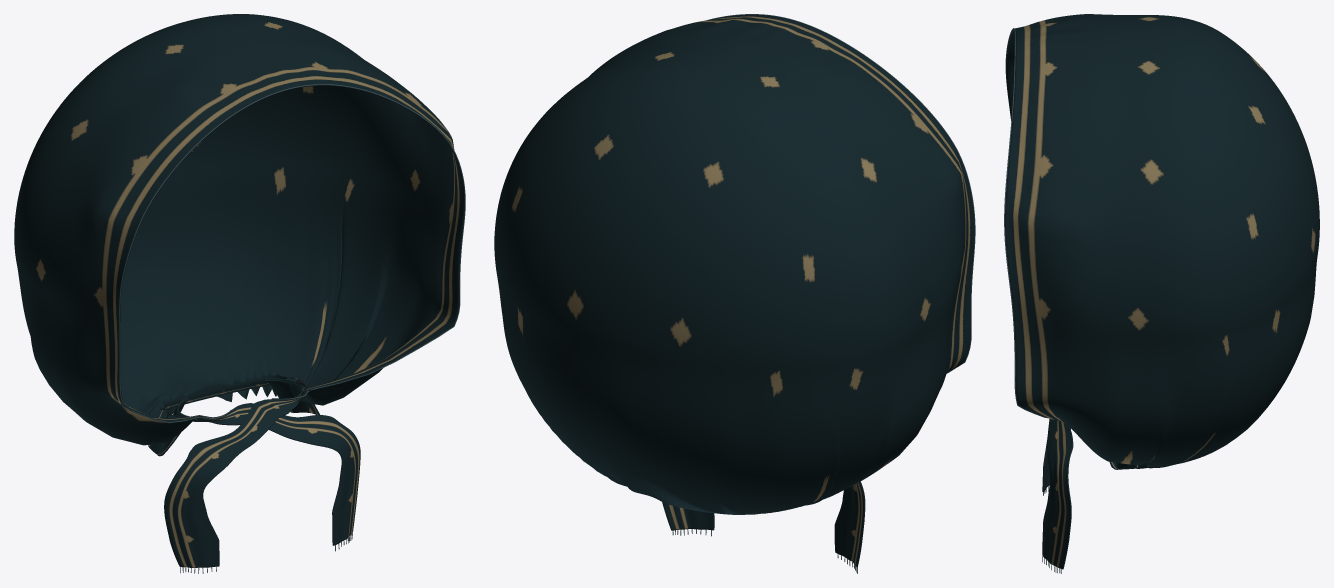
Rendered from Masculine-locs-jersey-pashmina250-headgear.glb.
3 views of the same model, side by side, from view 1: azimuth 30°, elevation 25°; view 2: azimuth 150°, elevation 25°; view 3: azimuth 270°, elevation 25° (orthographic). The views are drawn at different scales.
Parts seen in each view (by area): view 1: 226 headgear / Headwear / continuous woven pashmina239, 226 headgear / Headwear / face edge239; view 2: 226 headgear / Headwear / continuous woven pashmina239, 226 headgear / Headwear / face edge239; view 3: 226 headgear / Headwear / continuous woven pashmina239, 226 headgear / Headwear / face edge239.
Part boxes in pixels (box(x1,y1,x2,y2)): 226 headgear / Headwear / continuous woven pashmina239: box(14, 14, 464, 567); 226 headgear / Headwear / face edge239: box(119, 84, 465, 423); 226 headgear / Headwear / continuous woven pashmina239: box(494, 14, 974, 567); 226 headgear / Headwear / face edge239: box(706, 14, 975, 373); 226 headgear / Headwear / continuous woven pashmina239: box(1005, 14, 1319, 569); 226 headgear / Headwear / face edge239: box(1004, 28, 1047, 418).
Bounding box in the file's own units: 1.1 × 1.39 × 0.7988.
3 materials, 1 textured.
